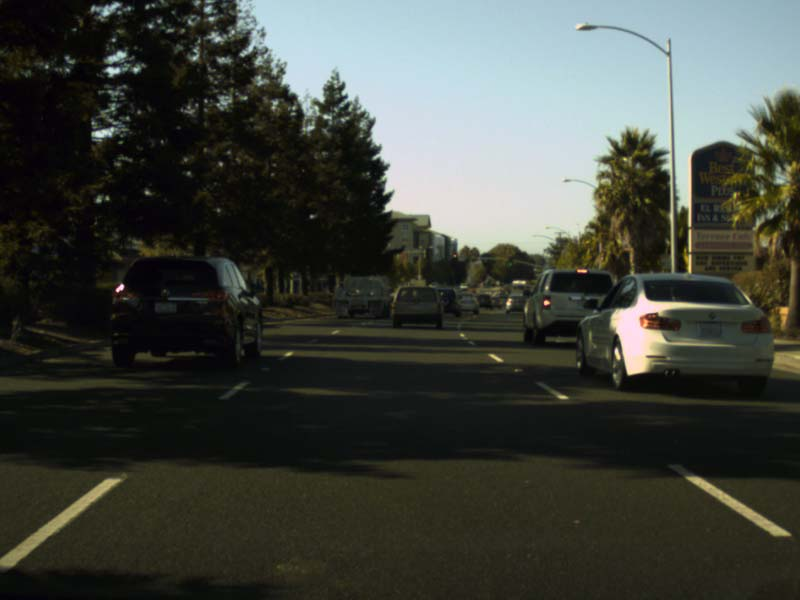Green: (507, 256, 513, 268)
Red: (452, 252, 457, 262)
